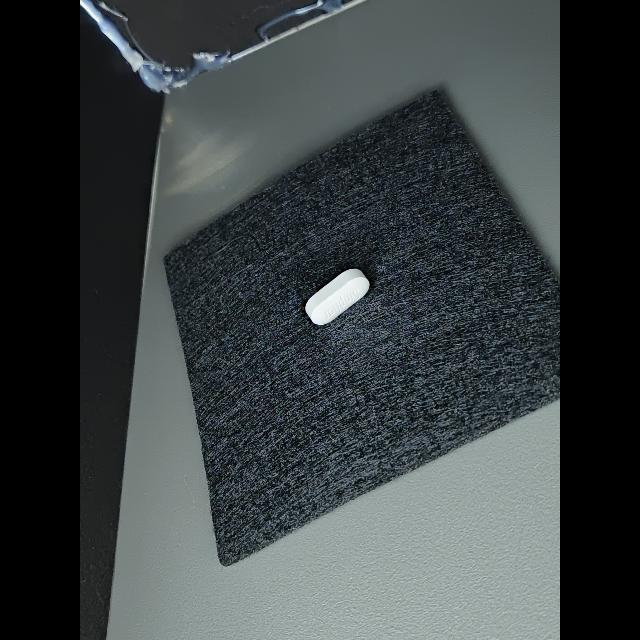Intact Pill: (305, 269, 369, 325)
